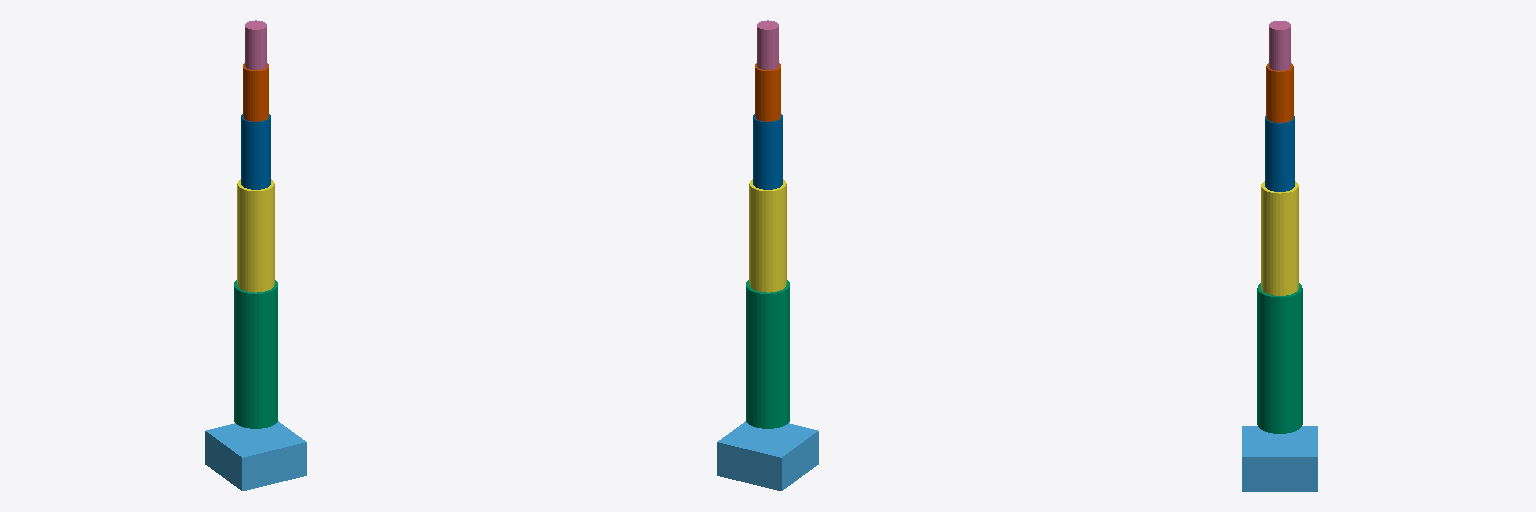
URDF robot description (mycobot_csv_test_five):
<?xml version="1.0"?>
<robot name="mycobot_csv_test_five">

  <link name="world"/>

  <link name="base_link">
    <visual><geometry><box size="0.1 0.1 0.05"/></geometry></visual>
  </link>

  <joint name="base_fixed" type="fixed">
    <parent link="world"/>
    <child  link="base_link"/>
  </joint>

  <link name="link_1">
    <visual><geometry><cylinder length="0.2" radius="0.03"/></geometry>
    <origin xyz="0 0 0.1"/></visual>
  </link>

  <joint name="joint_1" type="continuous">
    <parent link="base_link"/>
    <child  link="link_1"/>
    <origin xyz="0 0 0.05" rpy="0 0 0"/>
    <axis xyz="0 0 1"/>
    <limit effort="100" velocity="2.0"/>
  </joint>

  <link name="link_2">
    <visual><geometry><cylinder length="0.15" radius="0.025"/></geometry>
    <origin xyz="0 0 0.075"/></visual>
  </link>

  <joint name="joint_2" type="continuous">
    <parent link="link_1"/>
    <child  link="link_2"/>
    <origin xyz="0 0 0.2" rpy="0 0 0"/>
    <axis xyz="0 1 0"/>
    <limit effort="100" velocity="2.0"/>
  </joint>

  <link name="link_3">
    <visual><geometry><cylinder length="0.10" radius="0.020"/></geometry>
    <origin xyz="0 0 0.05"/></visual>
  </link>

  <joint name="joint_3" type="continuous">
    <parent link="link_2"/>
    <child  link="link_3"/>
    <origin xyz="0 0 0.15" rpy="0 0 0"/>
    <axis xyz="0 1 0"/>
    <limit effort="100" velocity="2.0"/>
  </joint>

  <link name="link_4">
    <visual><geometry><cylinder length="0.075" radius="0.018"/></geometry>
    <origin xyz="0 0 0.0375"/></visual>
  </link>

  <joint name="joint_4" type="continuous">
    <parent link="link_3"/>
    <child  link="link_4"/>
    <origin xyz="0 0 0.10" rpy="0 0 0"/>
    <axis xyz="0 1 0"/>
    <limit effort="100" velocity="2.0"/>
  </joint>

  <link name="link_5">
    <visual><geometry><cylinder length="0.06" radius="0.015"/></geometry>
    <origin xyz="0 0 0.03"/></visual>
  </link>

  <joint name="joint_5" type="continuous">
    <parent link="link_4"/>
    <child  link="link_5"/>
    <origin xyz="0 0 0.075" rpy="0 0 0"/>
    <axis xyz="1 0 0"/>
    <limit effort="100" velocity="2.0"/>
  </joint>

  <ros2_control name="MyCobotCSVFiveJoints" type="system">

    <hardware>
      <plugin>mycobot_csv/MyCobotCSV</plugin>
      <param name="ifname">enx00e04c360d9d</param>
    </hardware>

    <joint name="joint_1">
      <param name="slave_index">1</param>
      <param name="counts_per_rad">2085932.0</param>
      <command_interface name="velocity">
        <param name="min">-2.0</param>
        <param name="max"> 2.0</param>
      </command_interface>
      <state_interface name="position"/>
      <state_interface name="velocity"/>
    </joint>

    <joint name="joint_2">
      <param name="slave_index">2</param>
      <param name="counts_per_rad">2085932.0</param>
      <command_interface name="velocity">
        <param name="min">-2.0</param>
        <param name="max"> 2.0</param>
      </command_interface>
      <state_interface name="position"/>
      <state_interface name="velocity"/>
    </joint>

    <joint name="joint_3">
      <param name="slave_index">3</param>
      <param name="counts_per_rad">2085932.0</param>
      <command_interface name="velocity">
        <param name="min">-2.0</param>
        <param name="max"> 2.0</param>
      </command_interface>
      <state_interface name="position"/>
      <state_interface name="velocity"/>
    </joint>

    <joint name="joint_4">
      <param name="slave_index">4</param>
      <param name="counts_per_rad">2085932.0</param>
      <command_interface name="velocity">
        <param name="min">-2.0</param>
        <param name="max"> 2.0</param>
      </command_interface>
      <state_interface name="position"/>
      <state_interface name="velocity"/>
    </joint>

    <joint name="joint_5">
      <param name="slave_index">5</param>
      <param name="counts_per_rad">2085932.0</param>
      <command_interface name="velocity">
        <param name="min">-2.0</param>
        <param name="max"> 2.0</param>
      </command_interface>
      <state_interface name="position"/>
      <state_interface name="velocity"/>
    </joint>

  </ros2_control>

</robot>

--- What the picture shows (computed from the rendered views, not written in the file) ---
The picture shows the robot from 3 angles, left to right: view 1: azimuth 30°, elevation 25°; view 2: azimuth 150°, elevation 25°; view 3: azimuth 270°, elevation 25°; orthographic projection.
Robot: mycobot_csv_test_five — 7 links, 6 joints (5 continuous, 1 fixed); root link world; default pose: every joint at zero.
Links seen in each view (by area): view 1: link_1, base_link, link_2, link_3, link_4, link_5; view 2: link_1, base_link, link_2, link_3, link_4, link_5; view 3: link_1, base_link, link_2, link_3, link_4, link_5.
Link boxes in pixels (x1,y1,x2,y2): link_1: (234,280,277,428); base_link: (205,421,306,490); link_2: (237,179,274,292); link_3: (241,114,270,189); link_4: (243,63,268,121); link_5: (245,20,266,69); link_1: (746,280,789,428); base_link: (717,421,818,490); link_2: (749,179,786,292); link_3: (753,114,782,189); link_4: (755,63,780,121); link_5: (757,20,778,69); link_1: (1257,283,1302,433); base_link: (1242,426,1317,491); link_2: (1261,181,1298,295); link_3: (1265,116,1294,191); link_4: (1266,63,1293,122); link_5: (1269,21,1290,70).
Size in the robot's own frame: 0.1 by 0.1 by 0.66 metres.
Geometry: primitives only (box / cylinder / sphere), no mesh files.
